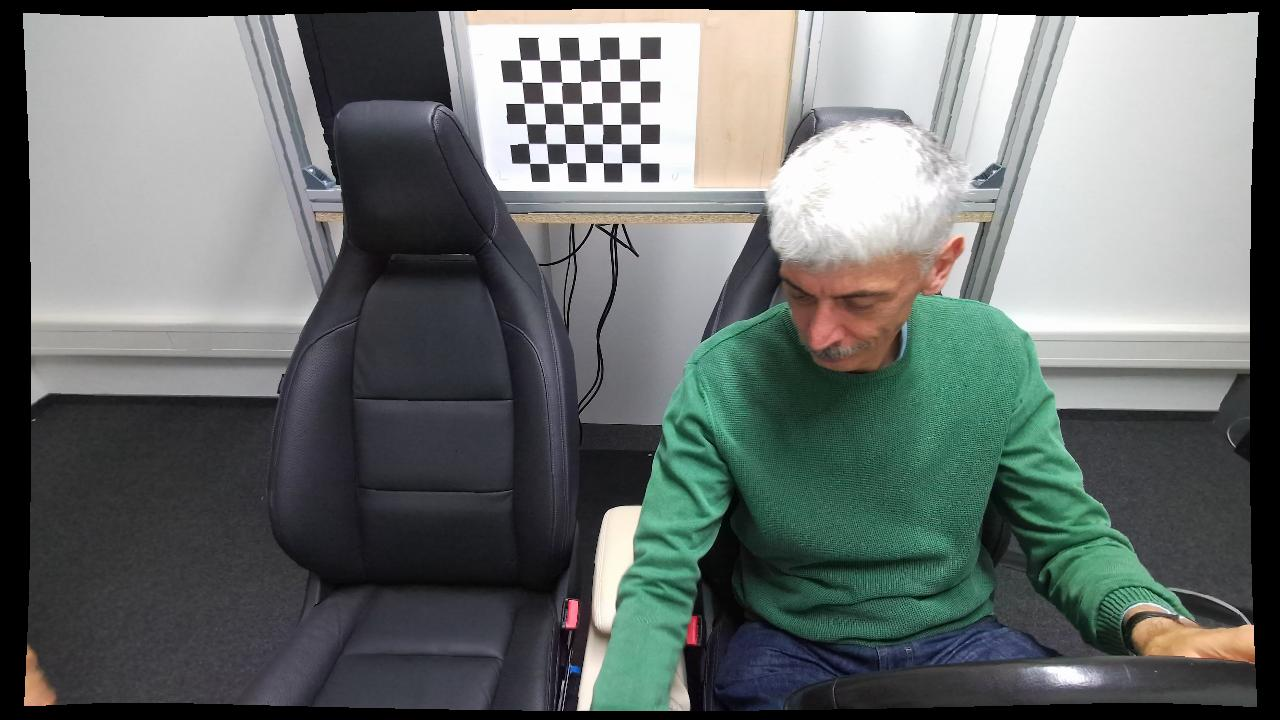Distracted: (588, 111, 1250, 710)
